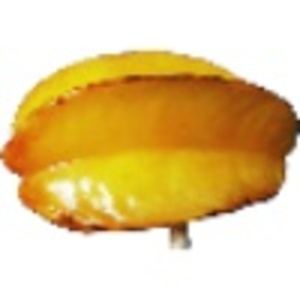carambola: (1, 47, 300, 252)
